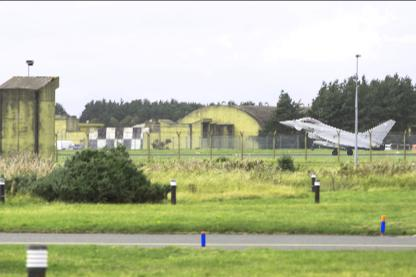E2: (278, 116, 396, 153)
